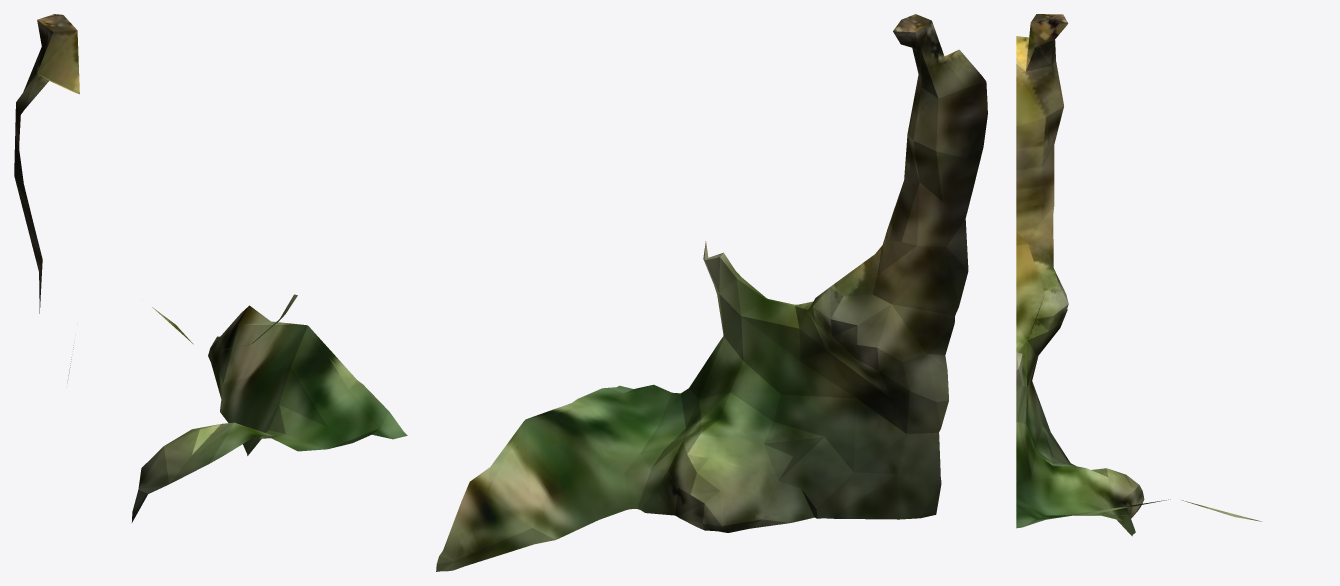
3 views of the same model, side by side, from view 1: azimuth 30°, elevation 25°; view 2: azimuth 150°, elevation 25°; view 3: azimuth 270°, elevation 25° (orthographic). The views are drawn at different scales.
Bounding box in the file's own units: 0.4371 × 0.5768 × 0.3777.
Materials: 1 (1 with a texture image).
